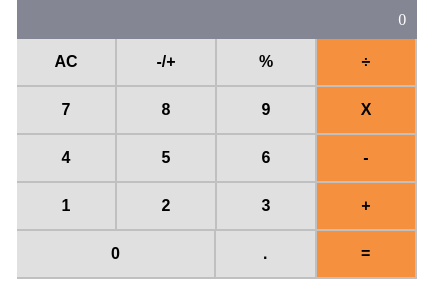
App › can change operation after clicking any other operation
Click the button "1" at coordinates (67, 207), box [17,183,117,231]
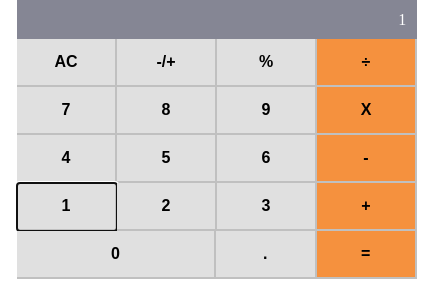
Click the button "+" at coordinates (367, 207), box [317,183,417,231]
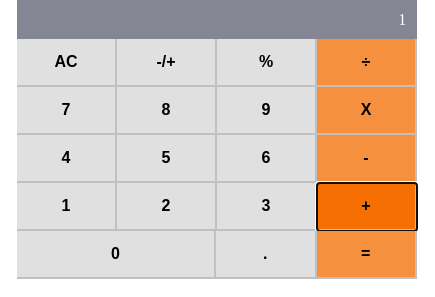
Click the button "-" at coordinates (367, 159), box [317,135,417,183]
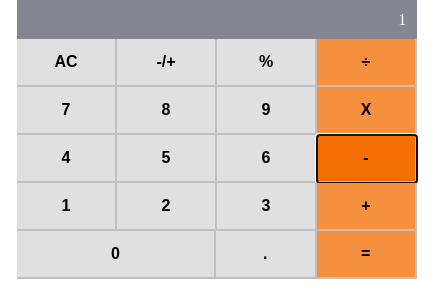
Click the button "1" at coordinates (67, 207), box [17,183,117,231]
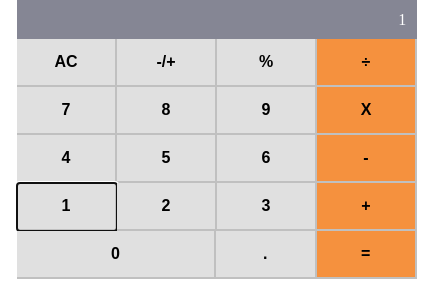
Click the button "=" at coordinates (367, 255), box [316,231,417,279]
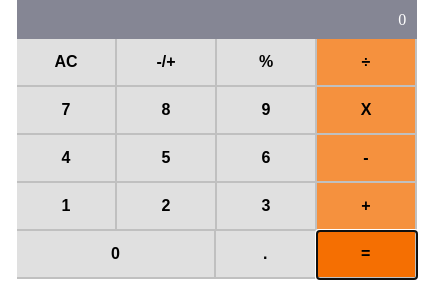
Expected: the text with class "display" reads "0", [398,11,406,28]
